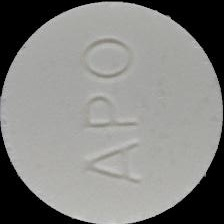60429-450: (0, 0, 224, 224)
